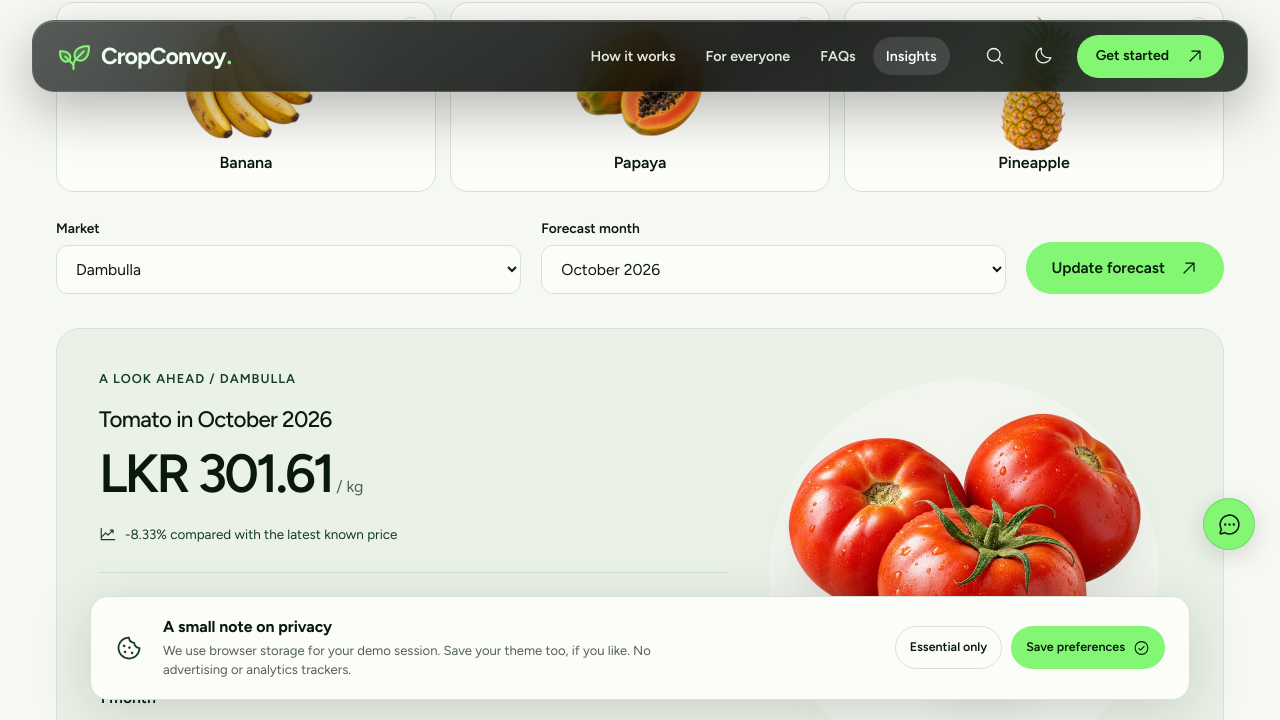
Test: Prediction demo › supports keyboard tabs and planting financial details
This screenshot has width=1280, height=720.
(page scrolled)
Expected: the heading "Tomato in October 2026" is shown, [99,406,332,433]
Press Arrowright
(page scrolled)
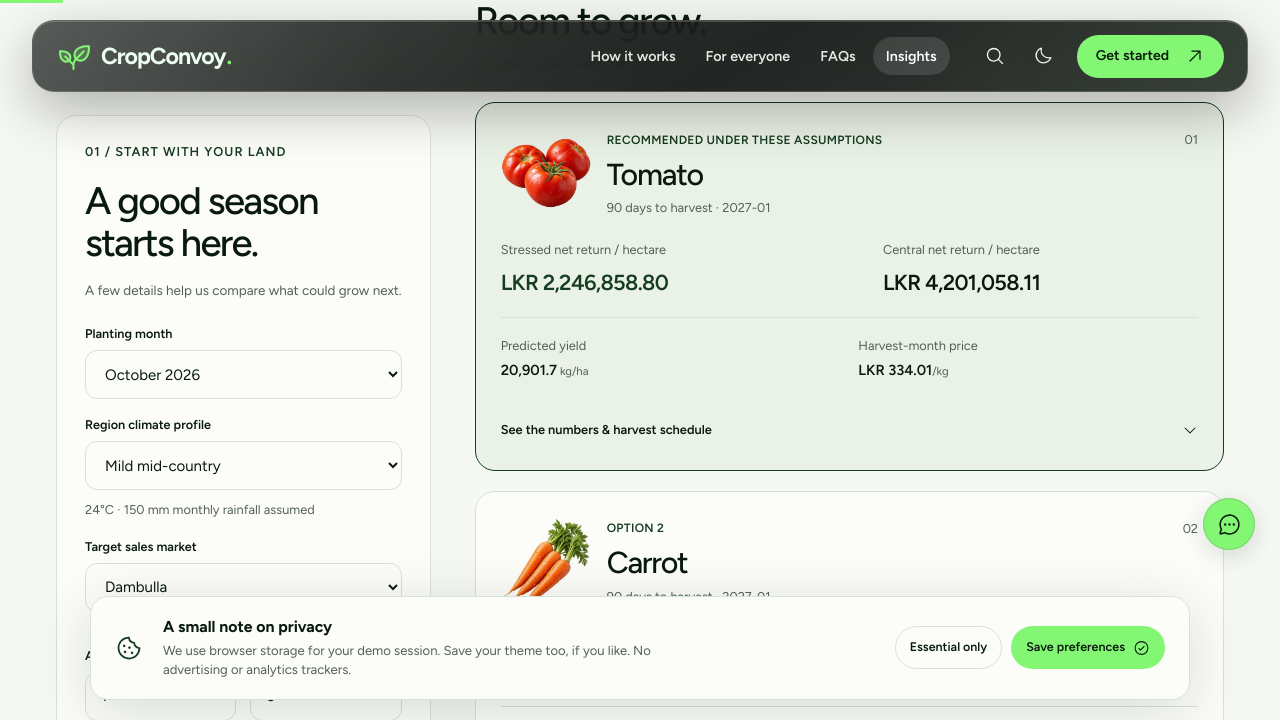
Result: the text "Recommended under these assumptions" is shown at [607,131,882,149]
Click the heading "See the numbers & harvest schedule".
click(606, 430)  # box [501,422,1198,438]
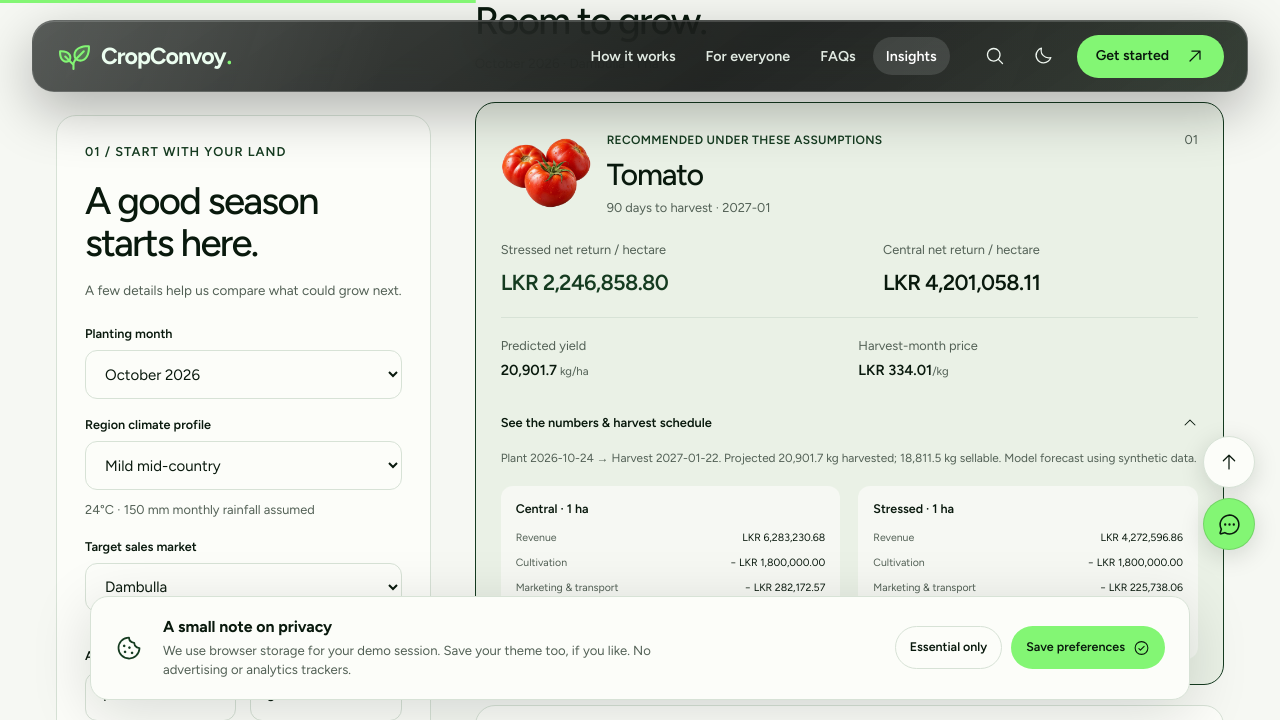
Result: the text "Marketing & transport" next to "LKR 282,172.57" is shown at [516,581,618,594]
